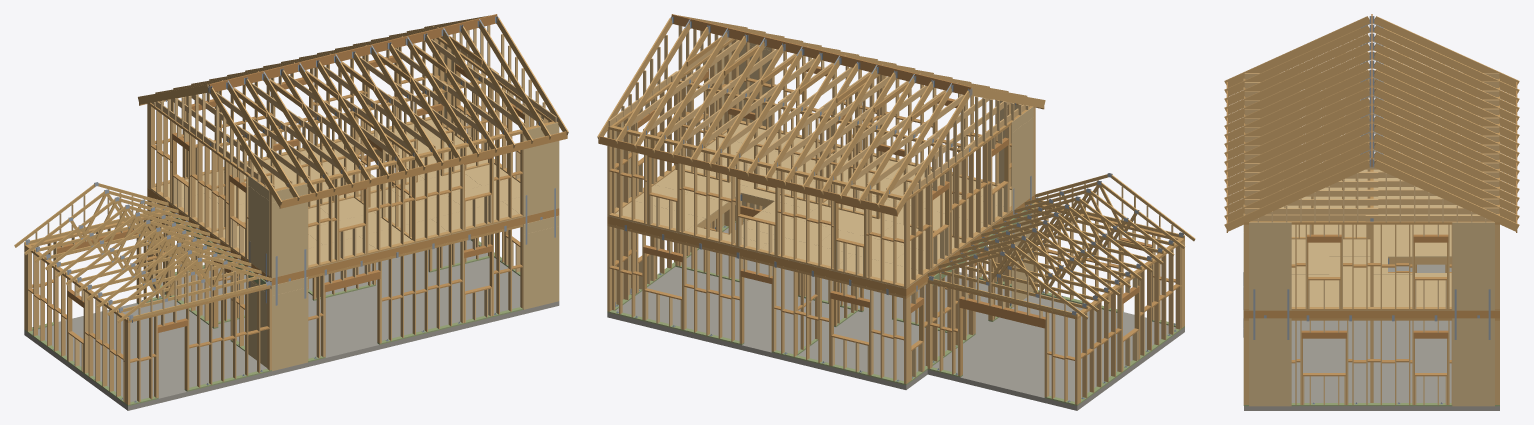
Rendered from wood-frame.glb.
3 views of the same model, side by side, from view 1: azimuth 30°, elevation 25°; view 2: azimuth 150°, elevation 25°; view 3: azimuth 270°, elevation 25° (orthographic). The views are drawn at different scales.
Parts seen in each view (by area): view 1: stud, slab, sheathing, rafter, truss, subfloor, ceilingJoist, king, cripple, trimmer, topPlate, gableStud (+11 smaller); view 2: stud, slab, rafter, subfloor, truss, ceilingJoist, king, cripple, trimmer, topPlate, sheathing, header (+10 smaller); view 3: rafter, sheathing, slab, subfloor, ceilingJoist, stud, rim, topPlate, king, header, cripple, trimmer (+10 smaller).
Boxes of the visible parts, <box> form: stud: <box>24,38,548,404</box>; slab: <box>24,240,559,410</box>; sheathing: <box>248,40,559,371</box>; rafter: <box>138,15,568,206</box>; truss: <box>14,183,272,322</box>; subfloor: <box>147,119,558,278</box>; ceilingJoist: <box>151,26,556,188</box>; king: <box>53,47,529,397</box>; cripple: <box>60,50,524,372</box>; trimmer: <box>57,62,524,397</box>; topPlate: <box>24,37,557,322</box>; gableStud: <box>35,25,545,315</box>; stud: <box>607,39,1184,404</box>; slab: <box>607,222,1184,410</box>; rafter: <box>597,15,1045,214</box>; subfloor: <box>607,124,1035,288</box>; truss: <box>927,174,1195,319</box>; ceilingJoist: <box>608,26,1030,194</box>; king: <box>636,56,1155,397</box>; cripple: <box>638,57,1148,379</box>; trimmer: <box>637,71,1139,396</box>; topPlate: <box>607,38,1184,319</box>; sheathing: <box>615,42,1033,307</box>; header: <box>637,63,1151,328</box>; rafter: <box>1224,16,1519,231</box>; sheathing: <box>1243,79,1494,406</box>; slab: <box>1244,264,1499,410</box>; subfloor: <box>1244,169,1499,310</box>; ceilingJoist: <box>1244,73,1499,221</box>; stud: <box>1244,107,1499,404</box>; rim: <box>1244,310,1499,318</box>; topPlate: <box>1244,78,1499,320</box>; king: <box>1300,115,1449,404</box>; header: <box>1301,98,1448,338</box>; cripple: <box>1303,89,1446,404</box>; trimmer: <box>1301,180,1448,404</box>.
Bounding box in the file's own units: 0.3749 × 0.1993 × 0.211.
